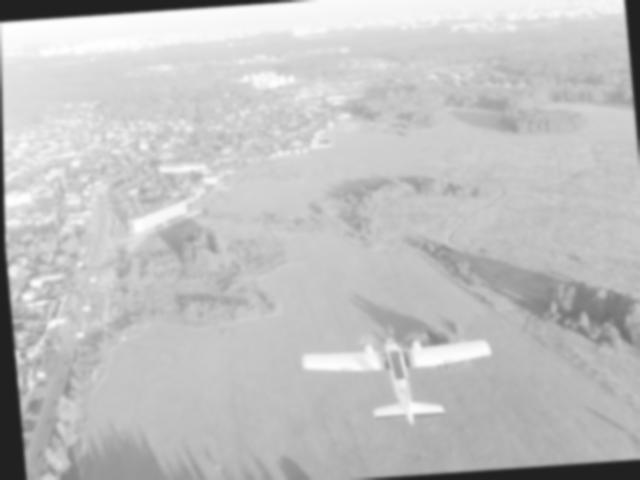hedef: (285, 312, 504, 440)
